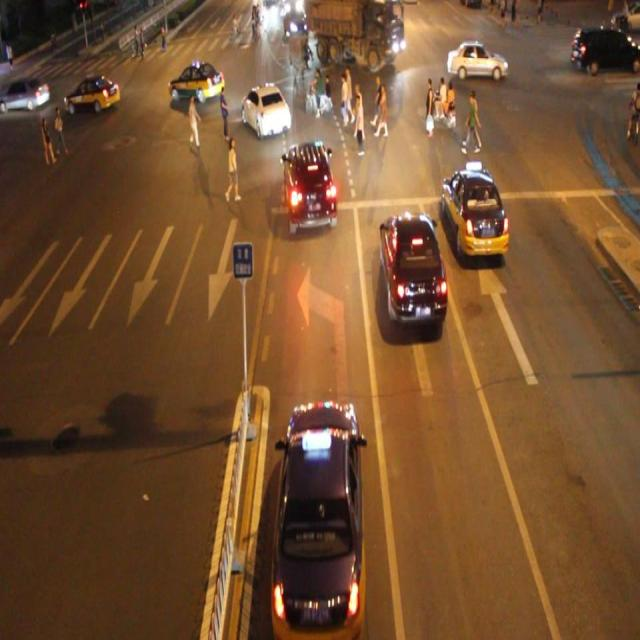bus: (304, 1, 404, 72)
car: (270, 396, 365, 640), (378, 212, 446, 322), (441, 166, 508, 256), (282, 142, 337, 230), (241, 85, 290, 140), (446, 39, 506, 82), (168, 61, 224, 104), (65, 76, 120, 115)
